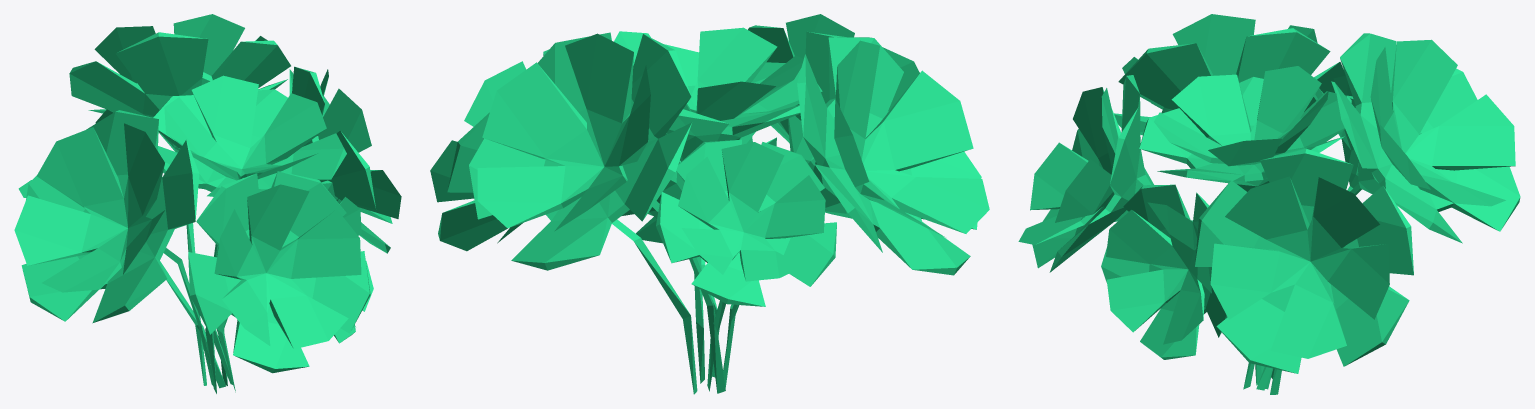
The model's file is leaf.glb.
3 views of the same model, side by side, from view 1: azimuth 30°, elevation 25°; view 2: azimuth 150°, elevation 25°; view 3: azimuth 270°, elevation 25° (orthographic). The views are drawn at different scales.
Parts seen in each view (by area): view 1: ramo diezmadas; view 2: ramo diezmadas; view 3: ramo diezmadas.
Part boxes in pixels (box(x1,y1,x2,y2)): ramo diezmadas: box(14, 14, 401, 393); ramo diezmadas: box(430, 14, 989, 394); ramo diezmadas: box(1018, 14, 1520, 394).
Bounding box in the file's own units: 0.5037 × 0.4085 × 0.527.
